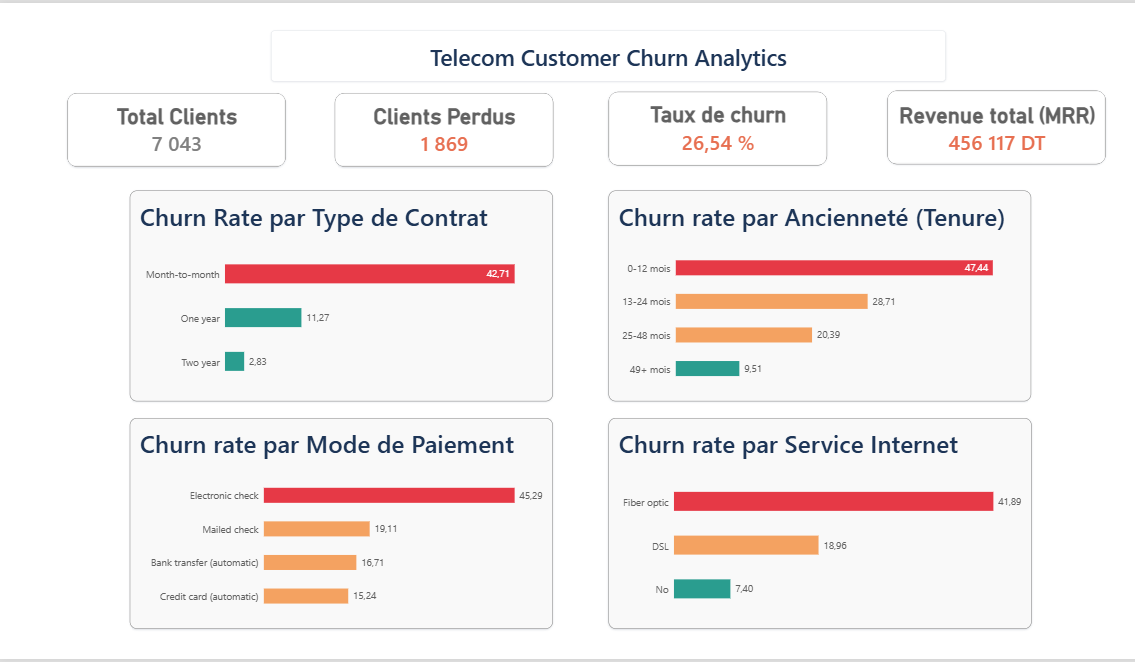

The page's visual inventory and layout, read from the dashboard file:
{"tool":"powerbi","page":{"name":"Page 1","canvas":[1920,1080],"ordinal":0},"visuals":[{"type":"textbox","box":[452.8,45.3,1111.5,84.4],"z":0},{"type":"cardVisual","fields":{"Data":["Sum(public v_churn_kpis.clients_perdus)"]},"box":[557.5,148.2,360,121.4],"z":1000},{"type":"cardVisual","fields":{"Data":["public v_churn_kpis.Taux de churn %"]},"box":[1008.9,146,360,121.4],"z":2000},{"type":"cardVisual","fields":{"Data":["Sum(public v_churn_kpis.mrr_total)"]},"box":[1466.9,143.8,360,121.4],"z":3000},{"type":"cardVisual","fields":{"Data":["Sum(public v_churn_kpis.total_clients)"]},"box":[117.3,148.2,360,121.4],"z":4000},{"type":"clusteredBarChart","title":"Churn Rate par Type de Contrat","fields":{"Category":["public v_churn_by_contract.contract"],"Y":["Sum(public v_churn_by_contract.churn_rate_perc)"]},"box":[221.2,309.7,696.9,347.4],"z":5000},{"type":"clusteredBarChart","title":"Churn rate par Ancienneté (Tenure)","fields":{"Category":["public v_churn_by_tenure.tenure_group"],"Y":["Sum(public v_churn_by_tenure.churn_rate_perc)"]},"box":[1008.9,309.7,696,347.4],"z":6000},{"type":"clusteredBarChart","title":"Churn rate par Mode de Paiement","fields":{"Category":["public v_churn_by_payment_method.payment_method"],"Y":["Sum(public v_churn_by_payment_method.churn_rate_perc)"]},"box":[221.2,683.7,696.9,347.4],"z":7000},{"type":"clusteredBarChart","title":"Churn rate par Service Internet","fields":{"Category":["public v_churn_by_internet_service.internet_service"],"Y":["Sum(public v_churn_by_internet_service.churn_rate_perc)"]},"box":[1008.9,683.7,696.9,347.4],"z":8000}]}

Visuals, with their boxes on the page's 1920x1080 design canvas (x1, y1, x2, y2). These are canvas units, not pixel positions in the 1135x662 screenshot, which may show the page scaled, cropped or inside an application window:
textbox: <box>453,45,1564,130</box>
cardVisual - Sum(public v_churn_kpis.clients_perdus): <box>558,148,918,270</box>
cardVisual - public v_churn_kpis.Taux de churn %: <box>1009,146,1369,267</box>
cardVisual - Sum(public v_churn_kpis.mrr_total): <box>1467,144,1827,265</box>
cardVisual - Sum(public v_churn_kpis.total_clients): <box>117,148,477,270</box>
"Churn Rate par Type de Contrat" clusteredBarChart: <box>221,310,918,657</box>
"Churn rate par Ancienneté (Tenure)" clusteredBarChart: <box>1009,310,1705,657</box>
"Churn rate par Mode de Paiement" clusteredBarChart: <box>221,684,918,1031</box>
"Churn rate par Service Internet" clusteredBarChart: <box>1009,684,1706,1031</box>
